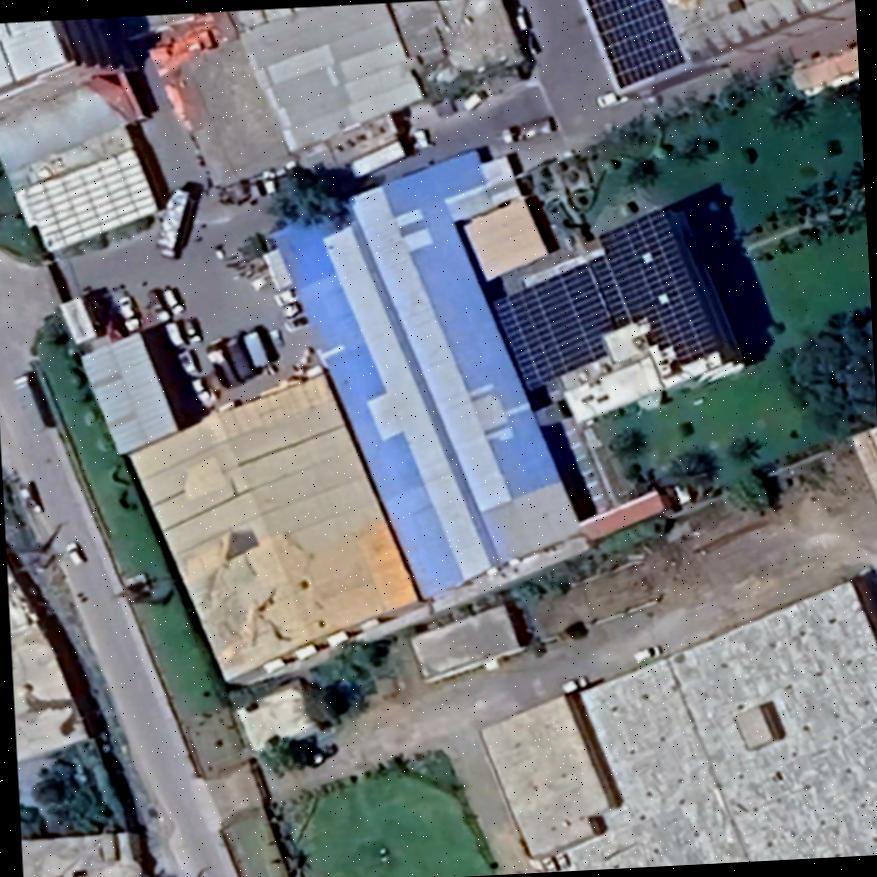Solarpanel: (484, 201, 724, 404), (577, 0, 692, 98)
